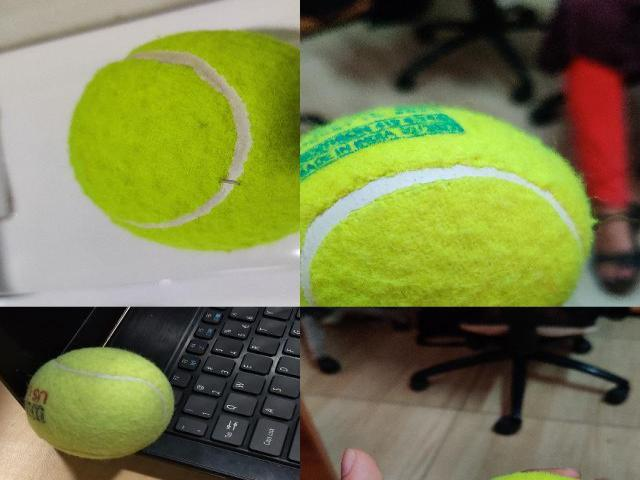tennis-ball: (300, 106, 592, 306), (64, 27, 299, 253), (22, 346, 176, 460), (492, 472, 581, 480)
